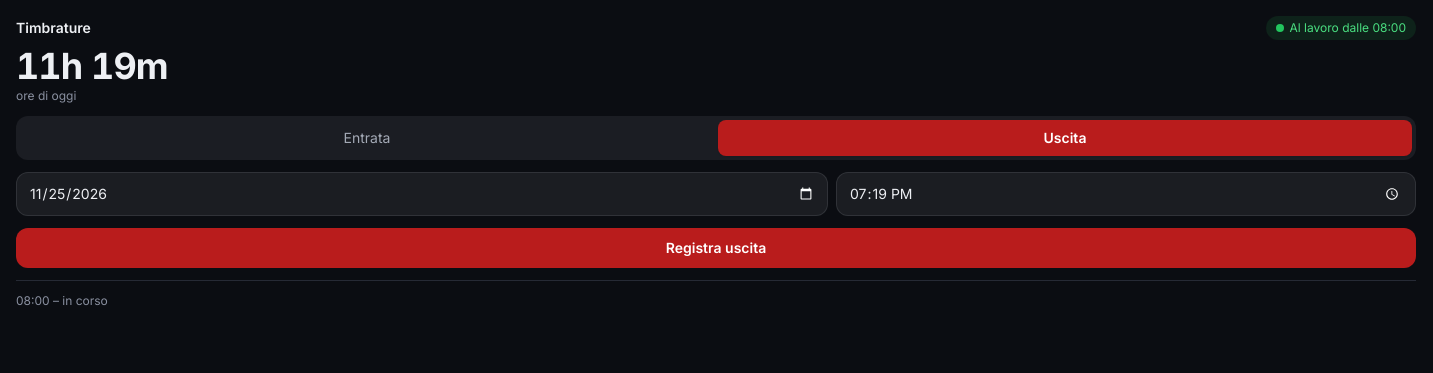
Test case: widget Timbrature › uscita senza un turno aperto in quella data: errore chiaro, nessuna scrittura
In the date field named "Data": point(422, 194) top-left (16, 172), bottom-right (828, 216), type "2020-01-01"
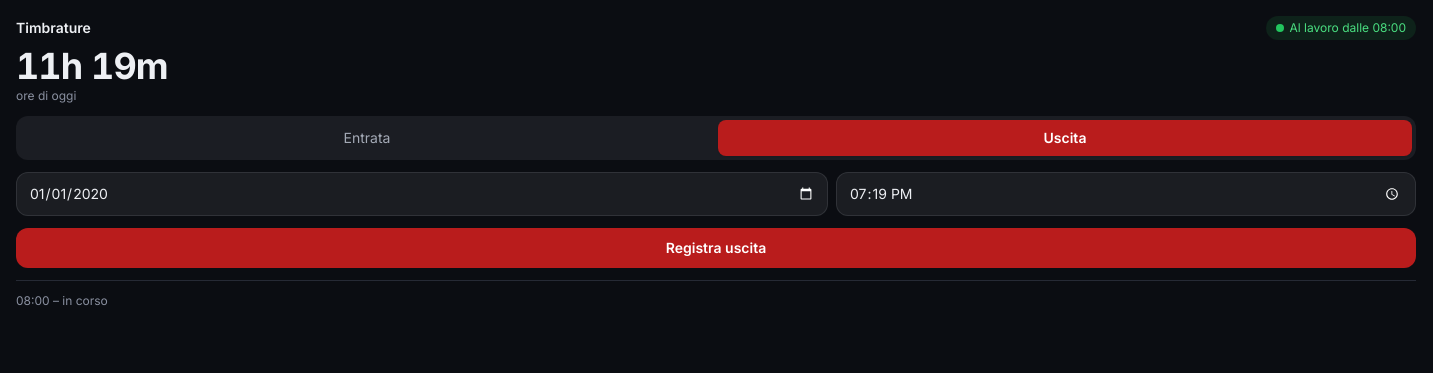
Click the button "Registra uscita": point(716, 248) top-left (16, 228), bottom-right (1416, 268)
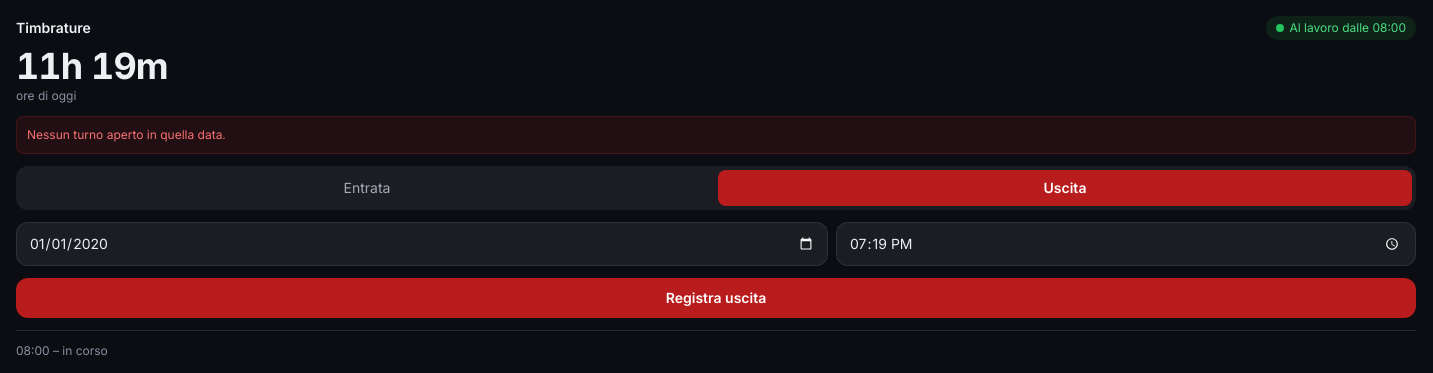
Expected: the text "Nessun turno aperto in quella data." is shown, top-left (16, 116), bottom-right (1416, 154)
